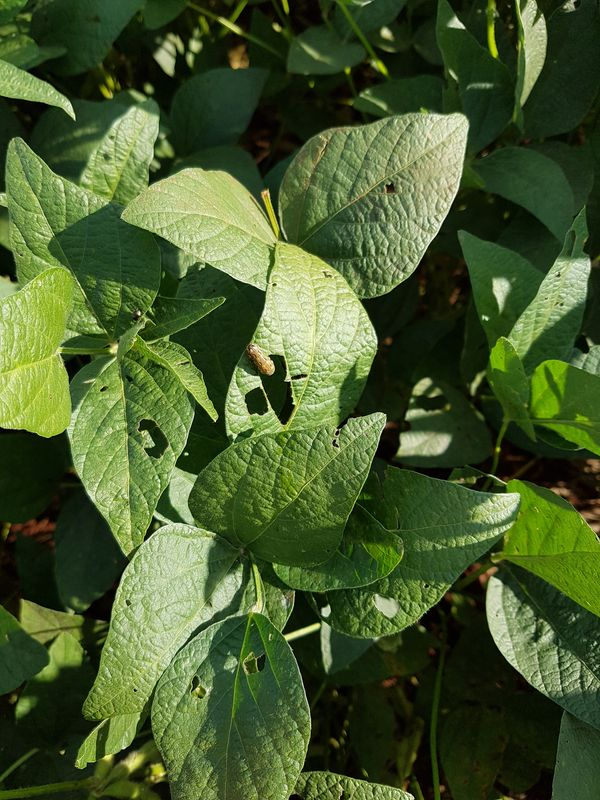Spodoptera_albula: (237, 338, 283, 385)
